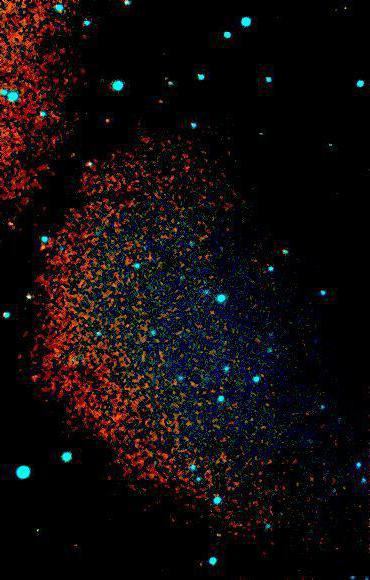star: (28, 233, 58, 263)
